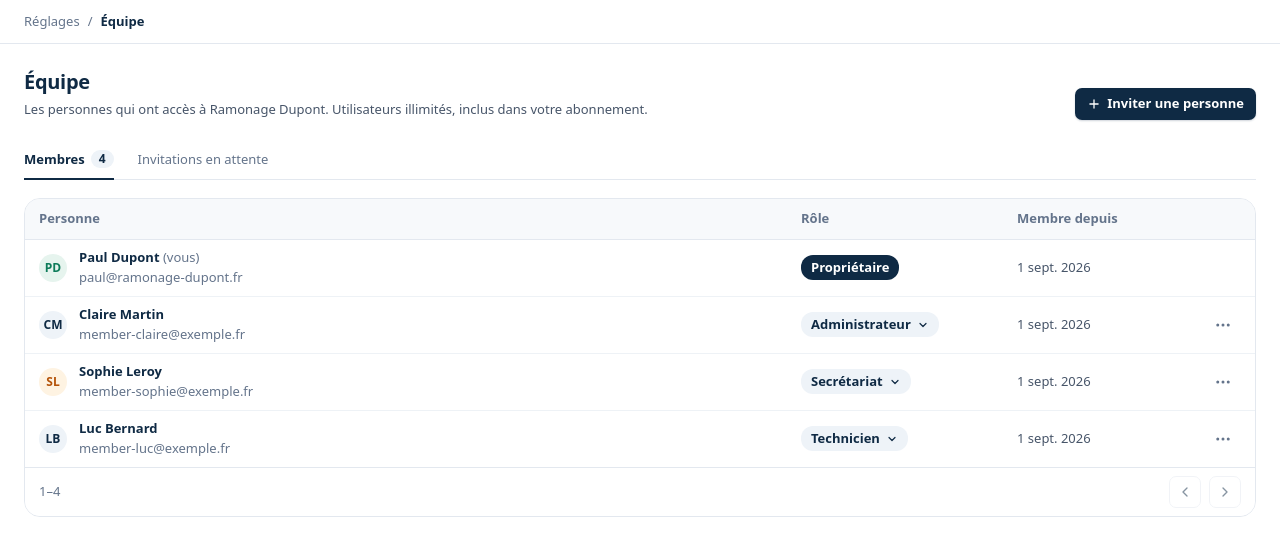
Scenario: TeamScreen › shows the pending invitations error with the short trace id
The width and height of the screenshot is (1280, 534).
Click the tab "Invitations en attente".
click(203, 160)  # box 138,140 -> 268,180
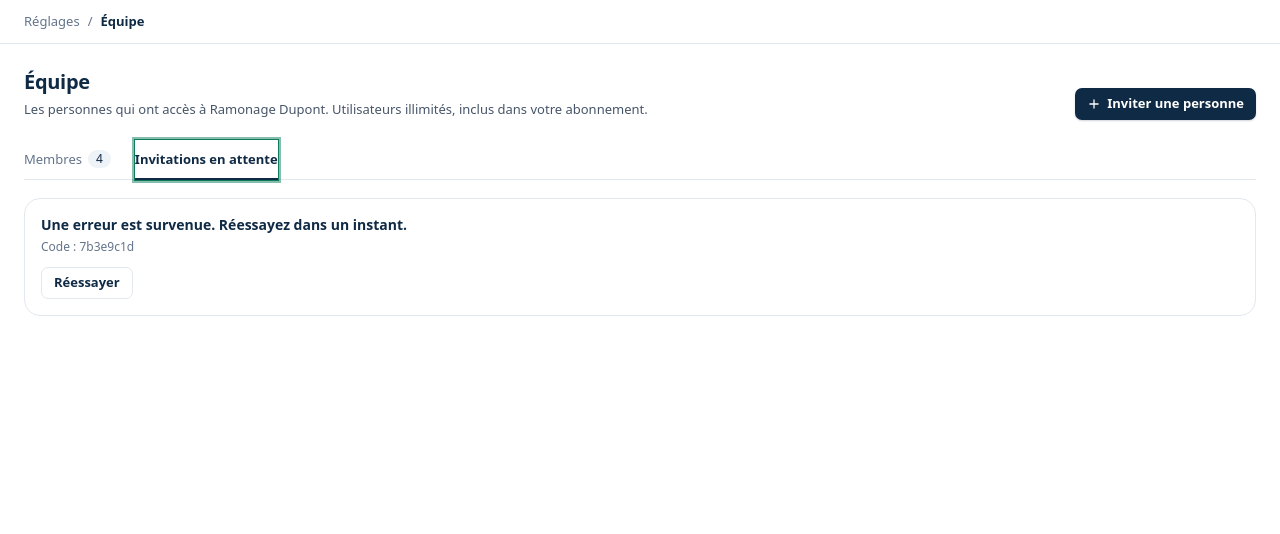
Now the button "Réessayer" is shown, box 41,267 -> 133,299
